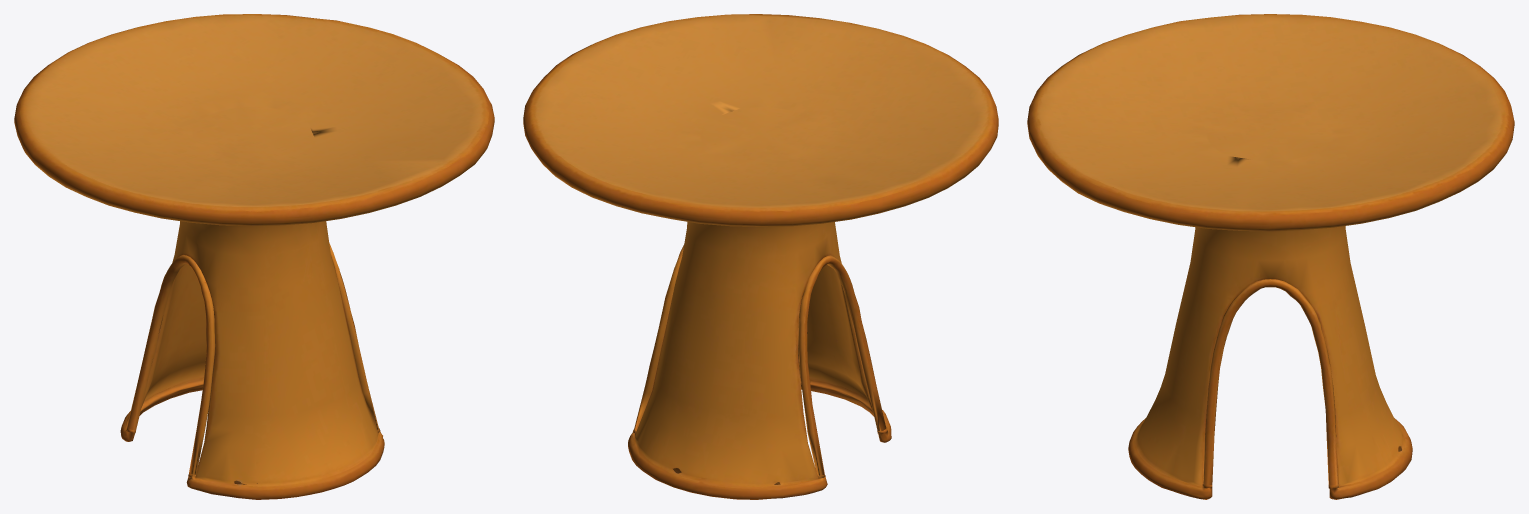
3 views of the same model, side by side, from view 1: azimuth 30°, elevation 25°; view 2: azimuth 150°, elevation 25°; view 3: azimuth 270°, elevation 25° (orthographic). The views are drawn at different scales.
Parts seen in each view (by area): view 1: tripo_node_6d58f2a6-8f16-459a-accf-9e71e7e37428; view 2: tripo_node_6d58f2a6-8f16-459a-accf-9e71e7e37428; view 3: tripo_node_6d58f2a6-8f16-459a-accf-9e71e7e37428.
Boxes of the visible parts, x1,y1,x2,y2 form: tripo_node_6d58f2a6-8f16-459a-accf-9e71e7e37428: [14, 14, 494, 499]; tripo_node_6d58f2a6-8f16-459a-accf-9e71e7e37428: [523, 14, 998, 499]; tripo_node_6d58f2a6-8f16-459a-accf-9e71e7e37428: [1027, 14, 1514, 499].
Bounding box in the file's own units: 0.998 × 0.7676 × 0.998.
1 material, 1 textured.
